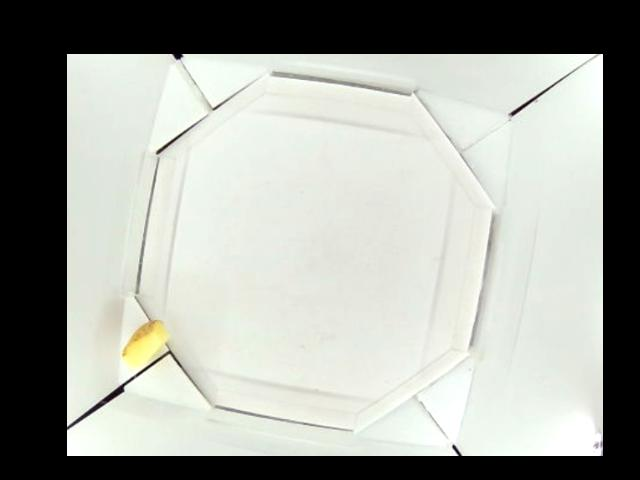Potato: (118, 319, 170, 368)
